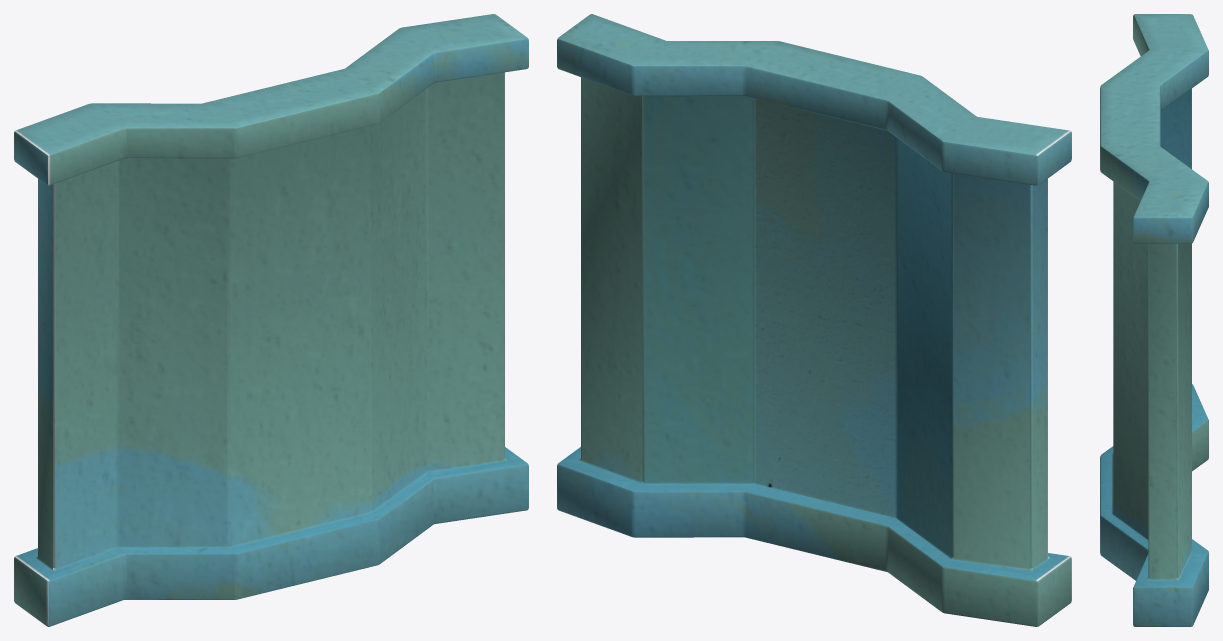
File: TOMB_WALL_3_004.obj
3 renders of one model, left to right at view 1: azimuth 30°, elevation 25°; view 2: azimuth 150°, elevation 25°; view 3: azimuth 270°, elevation 25°, orthographic. The views are drawn at different scales.
Parts seen in each view (by area): view 1: TOMB_WALL_3_004; view 2: TOMB_WALL_3_004; view 3: TOMB_WALL_3_004.
Boxes of the visible parts, x1,y1,x2,y2 form: TOMB_WALL_3_004: (14, 14, 528, 626); TOMB_WALL_3_004: (557, 14, 1071, 626); TOMB_WALL_3_004: (1100, 14, 1208, 626).
Size of the model in its own units: 3.2 by 3 by 0.7206.
